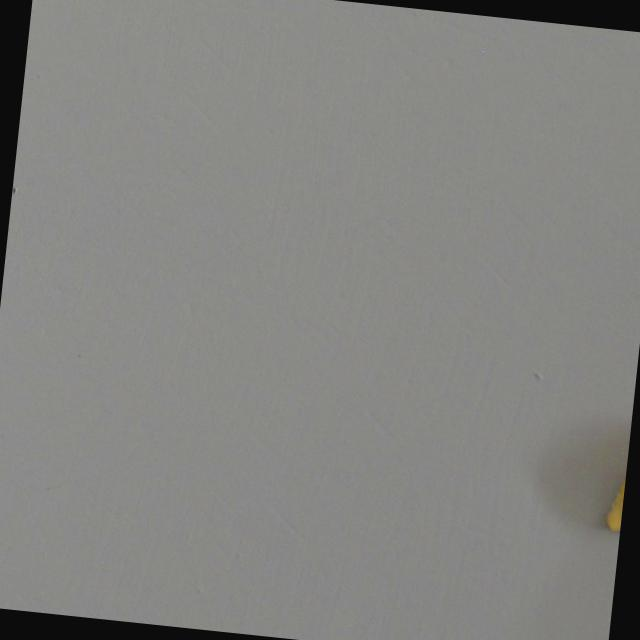entero: (598, 416, 631, 539)
